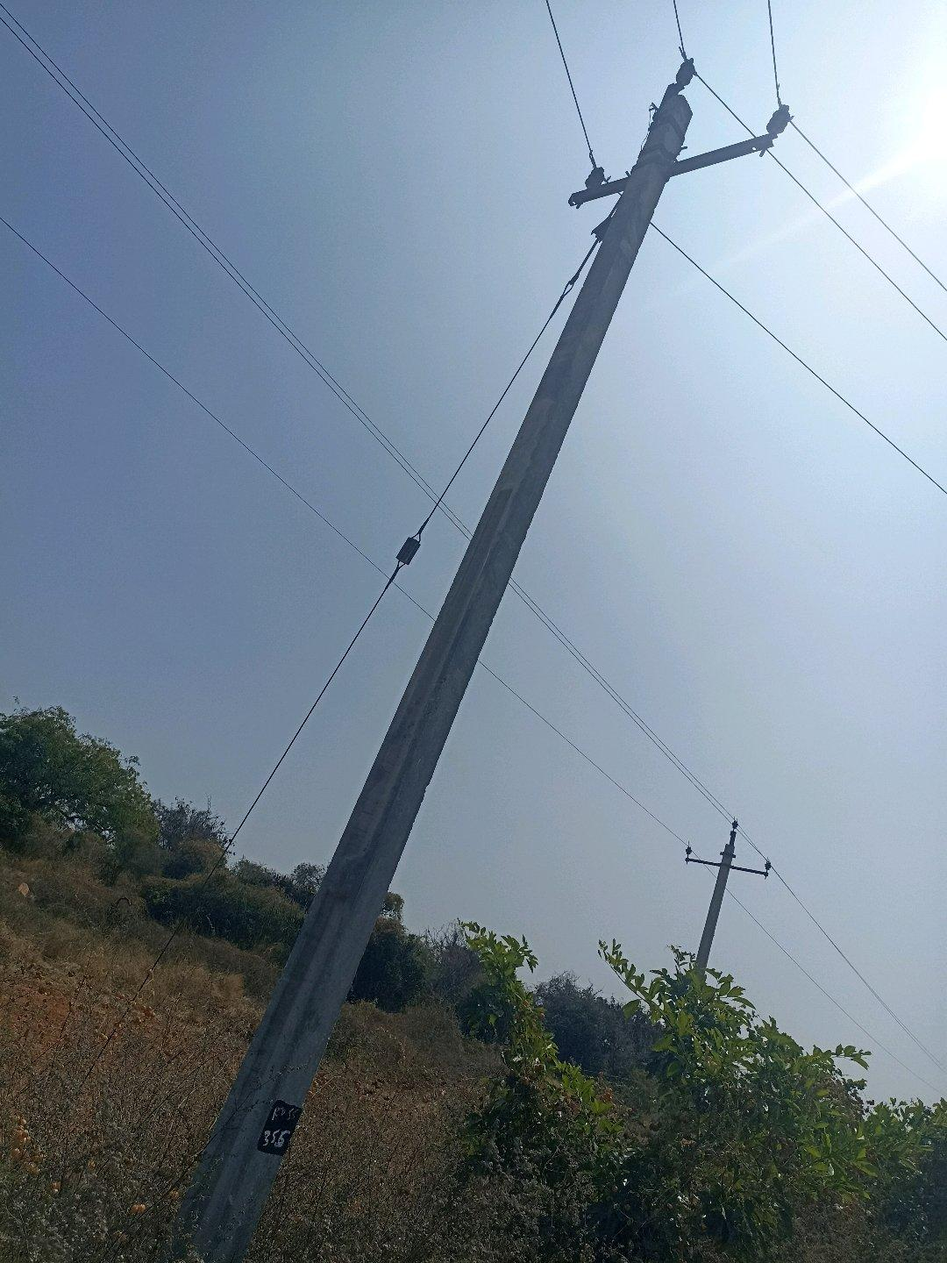{"0" "insulator", "1" "pole", "2" "crossarm", "3" "conductor", "4" "street_: (175, 60, 790, 1262), (683, 821, 771, 974)
